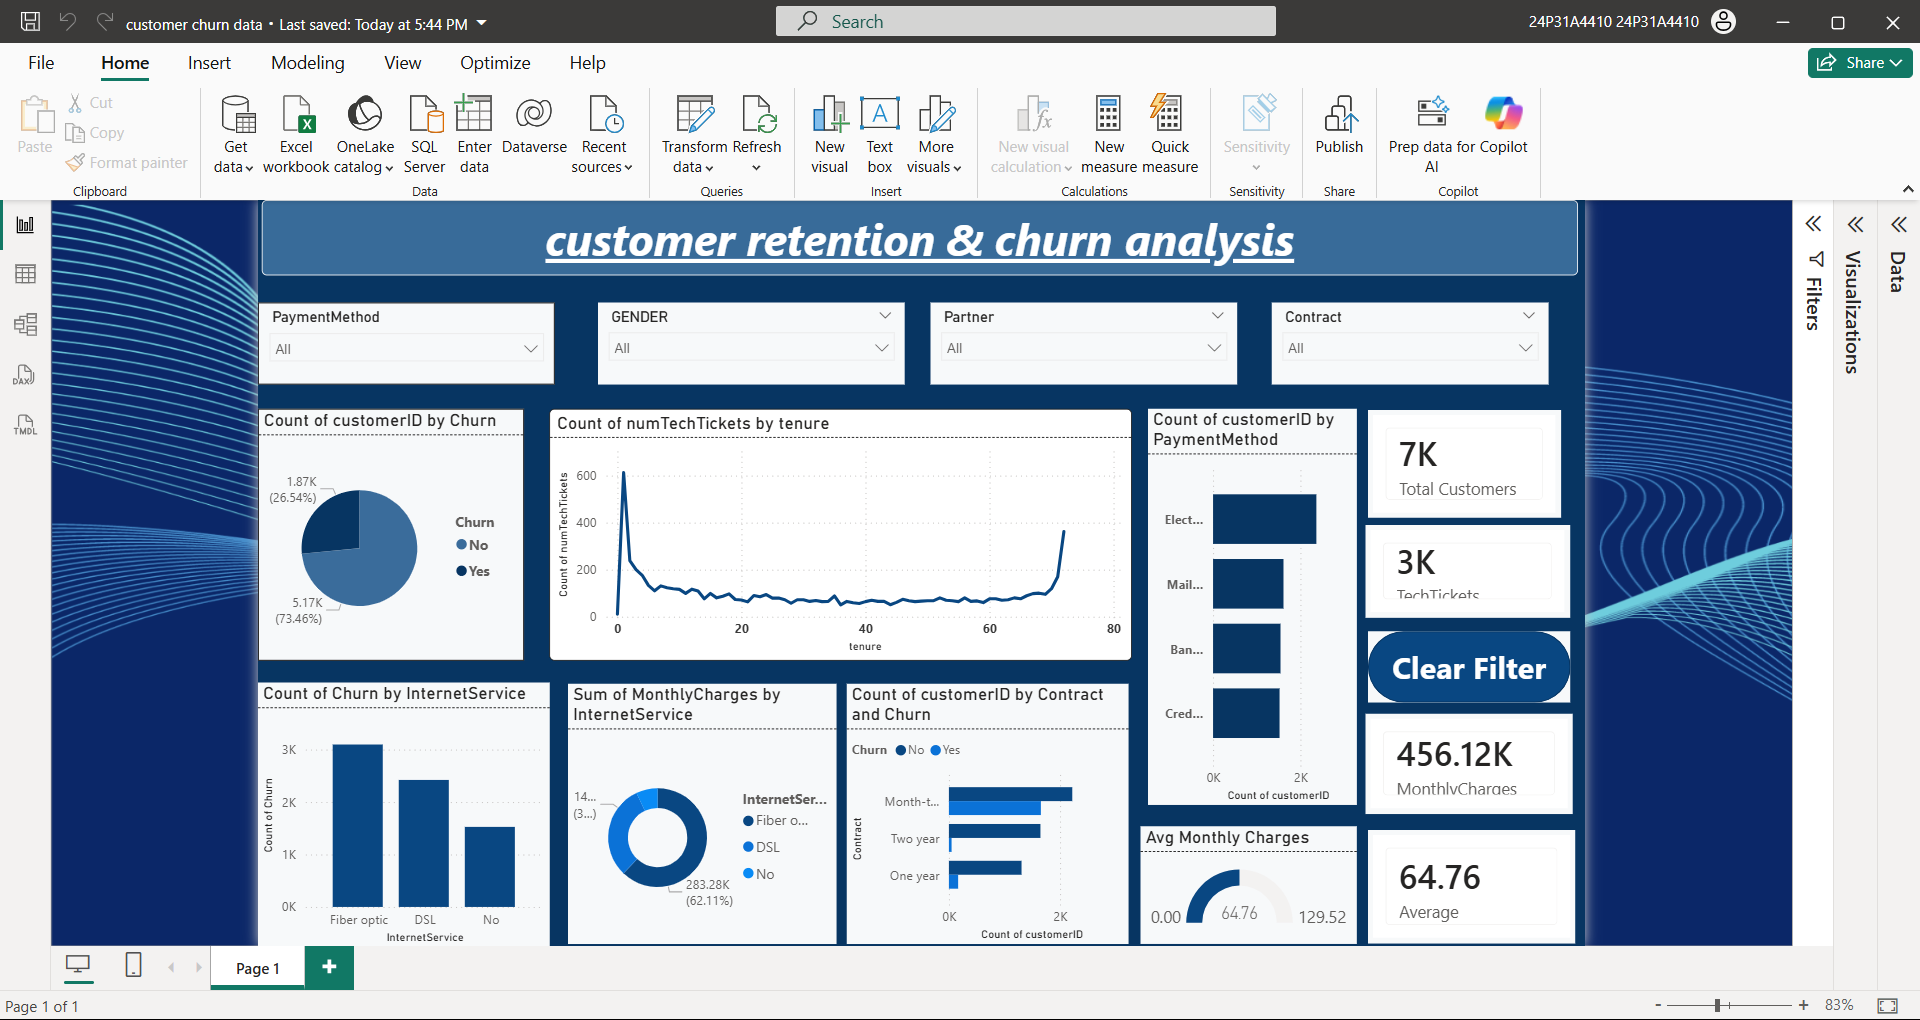

This screenshot's page, from the dashboard's own definition file:
{"tool":"powerbi","page":{"name":"Page 1","canvas":[1280,720],"ordinal":0},"visuals":[{"type":"textbox","box":[4.1,0,1270.7,72.7],"z":0},{"type":"pieChart","fields":{"Category":["Sheet1.Churn"],"Y":["CountNonNull(Sheet1.customerID)"]},"box":[0,201.7,256.6,242.9],"z":1000},{"type":"lineChart","fields":{"Y":["CountNonNull(Sheet1.numTechTickets)"],"Category":["Sheet1.tenure"]},"box":[281.3,201.7,562.6,242.9],"z":2000},{"type":"barChart","fields":{"Y":["CountNonNull(Sheet1.customerID)"],"Category":["Sheet1.PaymentMethod"]},"box":[859,201.5,201.5,382.4],"z":3000},{"type":"slicer","fields":{"Values":["Sheet1.PaymentMethod"]},"box":[0,98.8,286.8,79.6],"z":4000},{"type":"slicer","fields":{"Values":["Sheet1.Contract"]},"box":[978.4,98.8,267.6,79.6],"z":5000},{"type":"slicer","fields":{"Values":["Sheet1.Partner"]},"box":[649.1,98.8,296.4,79.6],"z":6000},{"type":"slicer","fields":{"Values":["Sheet1.gender"]},"box":[328,98.8,296.4,79.6],"z":7000},{"type":"cardVisual","fields":{"Data":["Sum(Sheet1.numTechTickets)"]},"box":[1068.9,313.7,197.9,89.3],"z":8000},{"type":"cardVisual","fields":{"Data":["Sum(Sheet1.MonthlyCharges)"]},"box":[1068.9,495.8,200.3,96.5],"z":9000},{"type":"cardVisual","fields":{"Data":["Sheet1.Total Customers"]},"box":[1071.7,203.1,186.6,104.3],"z":10000},{"type":"donutChart","fields":{"Category":["Sheet1.InternetService"],"Y":["Sum(Sheet1.MonthlyCharges)"]},"box":[299.1,466.6,259.3,251.1],"z":11000},{"type":"columnChart","fields":{"Category":["Sheet1.InternetService"],"Y":["CountNonNull(Sheet1.Churn)"]},"box":[0,465.2,281.3,255.2],"z":12000},{"type":"cardVisual","fields":{"Data":["Avg(Sheet1.MonthlyCharges)"]},"box":[1071.3,608,200.3,109.8],"z":13000},{"type":"clusteredBarChart","fields":{"Category":["Sheet1.Contract"],"Y":["CountNonNull(Sheet1.customerID)"],"Series":["Sheet1.Churn"]},"box":[568.1,466.6,271.7,251.1],"z":14000},{"type":"shape","box":[1071.3,416.2,195.4,68.8],"z":15000},{"type":"gauge","fields":{"Y":["Sheet1.Avg Monthly Charges"]},"box":[851.7,604.4,208.7,113.4],"z":16000}]}

Visuals, with their boxes on the page's 1280x720 design canvas (x1, y1, x2, y2). These are canvas units, not pixel positions in the 1920x1020 screenshot, which may show the page scaled, cropped or inside an application window:
textbox: 4,0,1275,73
pieChart - Sheet1.Churn x CountNonNull(Sheet1.customerID): 0,202,257,445
lineChart - CountNonNull(Sheet1.numTechTickets) x Sheet1.tenure: 281,202,844,445
barChart - CountNonNull(Sheet1.customerID) x Sheet1.PaymentMethod: 859,202,1060,584
slicer - Sheet1.PaymentMethod: 0,99,287,178
slicer - Sheet1.Contract: 978,99,1246,178
slicer - Sheet1.Partner: 649,99,946,178
slicer - Sheet1.gender: 328,99,624,178
cardVisual - Sum(Sheet1.numTechTickets): 1069,314,1267,403
cardVisual - Sum(Sheet1.MonthlyCharges): 1069,496,1269,592
cardVisual - Sheet1.Total Customers: 1072,203,1258,307
donutChart - Sheet1.InternetService x Sum(Sheet1.MonthlyCharges): 299,467,558,718
columnChart - Sheet1.InternetService x CountNonNull(Sheet1.Churn): 0,465,281,720
cardVisual - Avg(Sheet1.MonthlyCharges): 1071,608,1272,718
clusteredBarChart - Sheet1.Contract x CountNonNull(Sheet1.customerID): 568,467,840,718
shape: 1071,416,1267,485
gauge - Sheet1.Avg Monthly Charges: 852,604,1060,718
